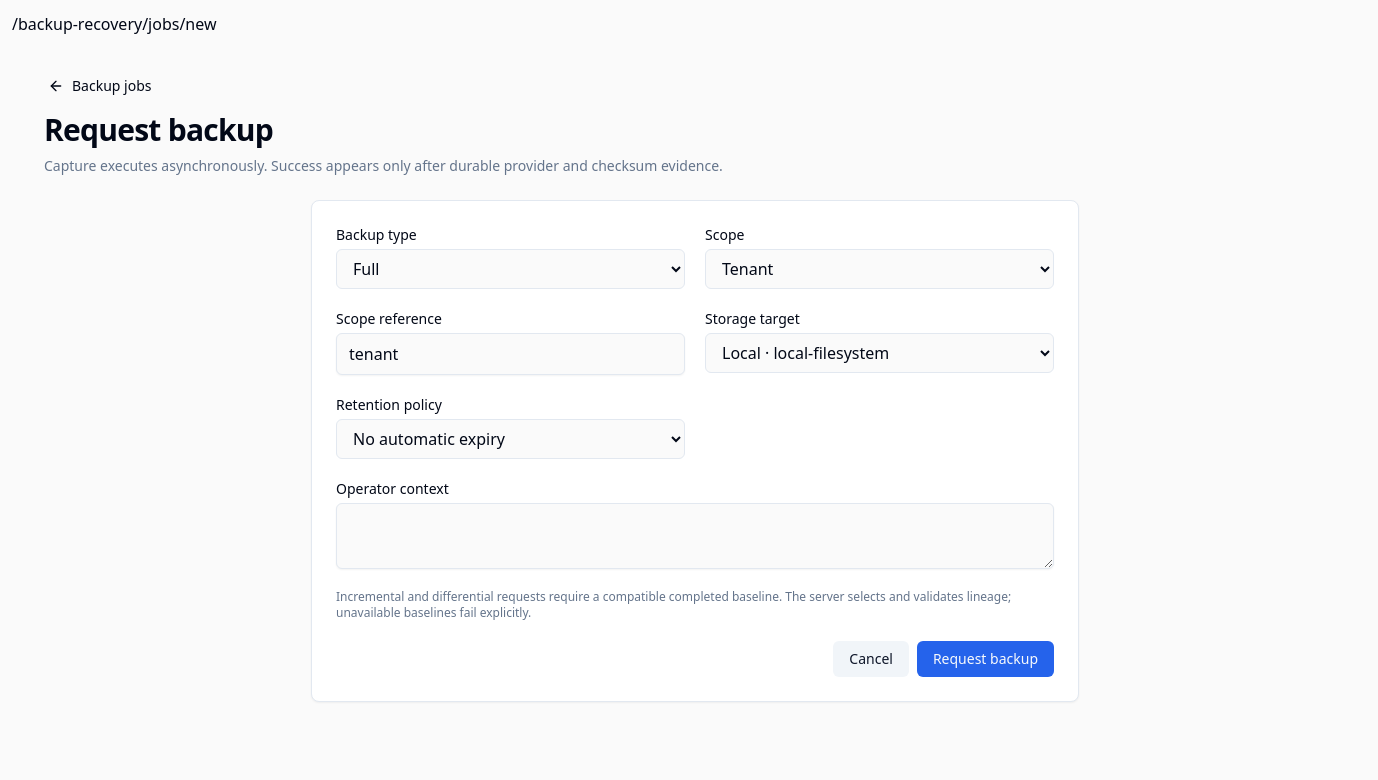
Test: backup recovery governed page states › preserves zero-byte artifact truth and locks duplicate backup submissions
Click the button "Request backup" at [985, 659], box [917,641,1054,677]
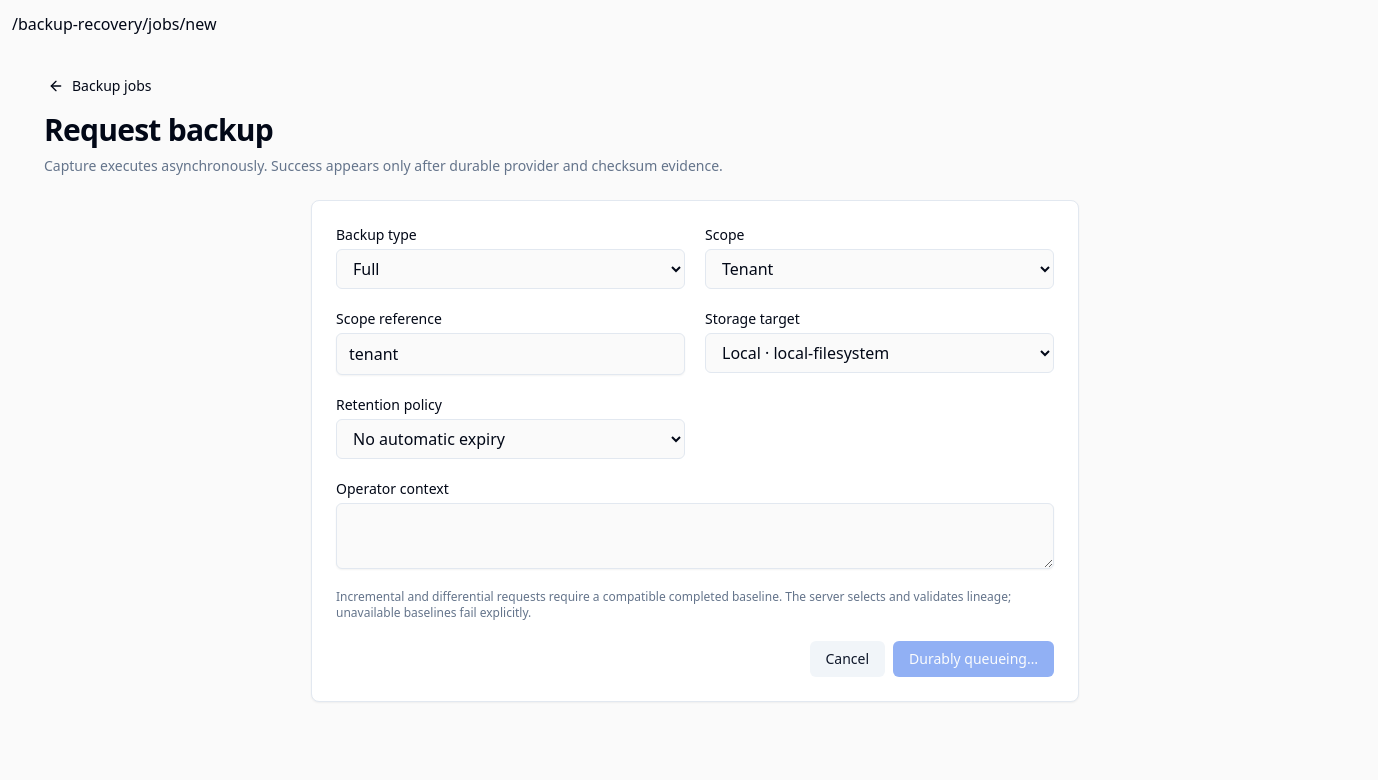
Check: the button "Durably queueing…" is disabled, box [893,641,1054,677]
